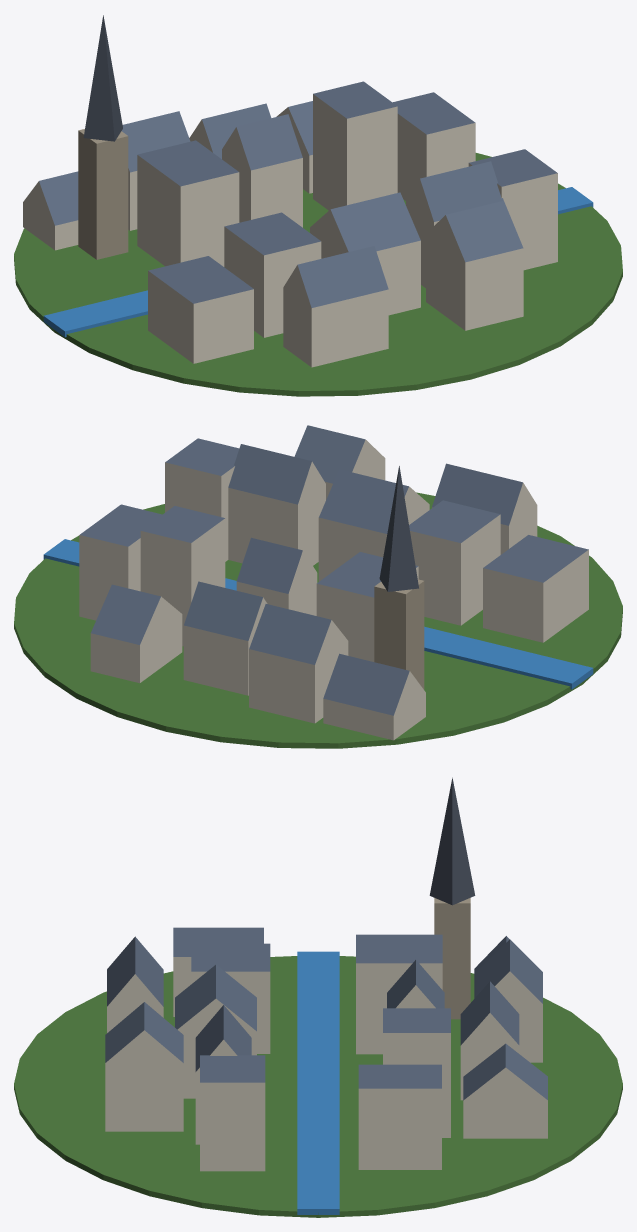
File: galway.glb
3 views of the same model, one above another, from view 1: azimuth 30°, elevation 25°; view 2: azimuth 150°, elevation 25°; view 3: azimuth 270°, elevation 25° (orthographic).
Size of the model in its own units: 2 by 0.87 by 2.
